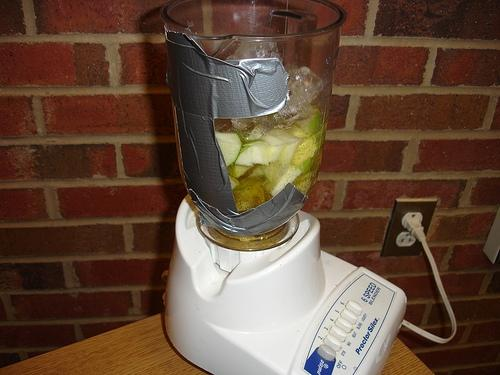apple: (289, 124, 322, 169), (232, 174, 267, 211), (269, 164, 302, 197), (215, 131, 243, 167), (262, 134, 288, 162), (234, 146, 269, 166), (295, 108, 321, 134), (292, 170, 314, 196), (232, 163, 255, 179), (261, 179, 279, 193), (300, 158, 311, 175)
